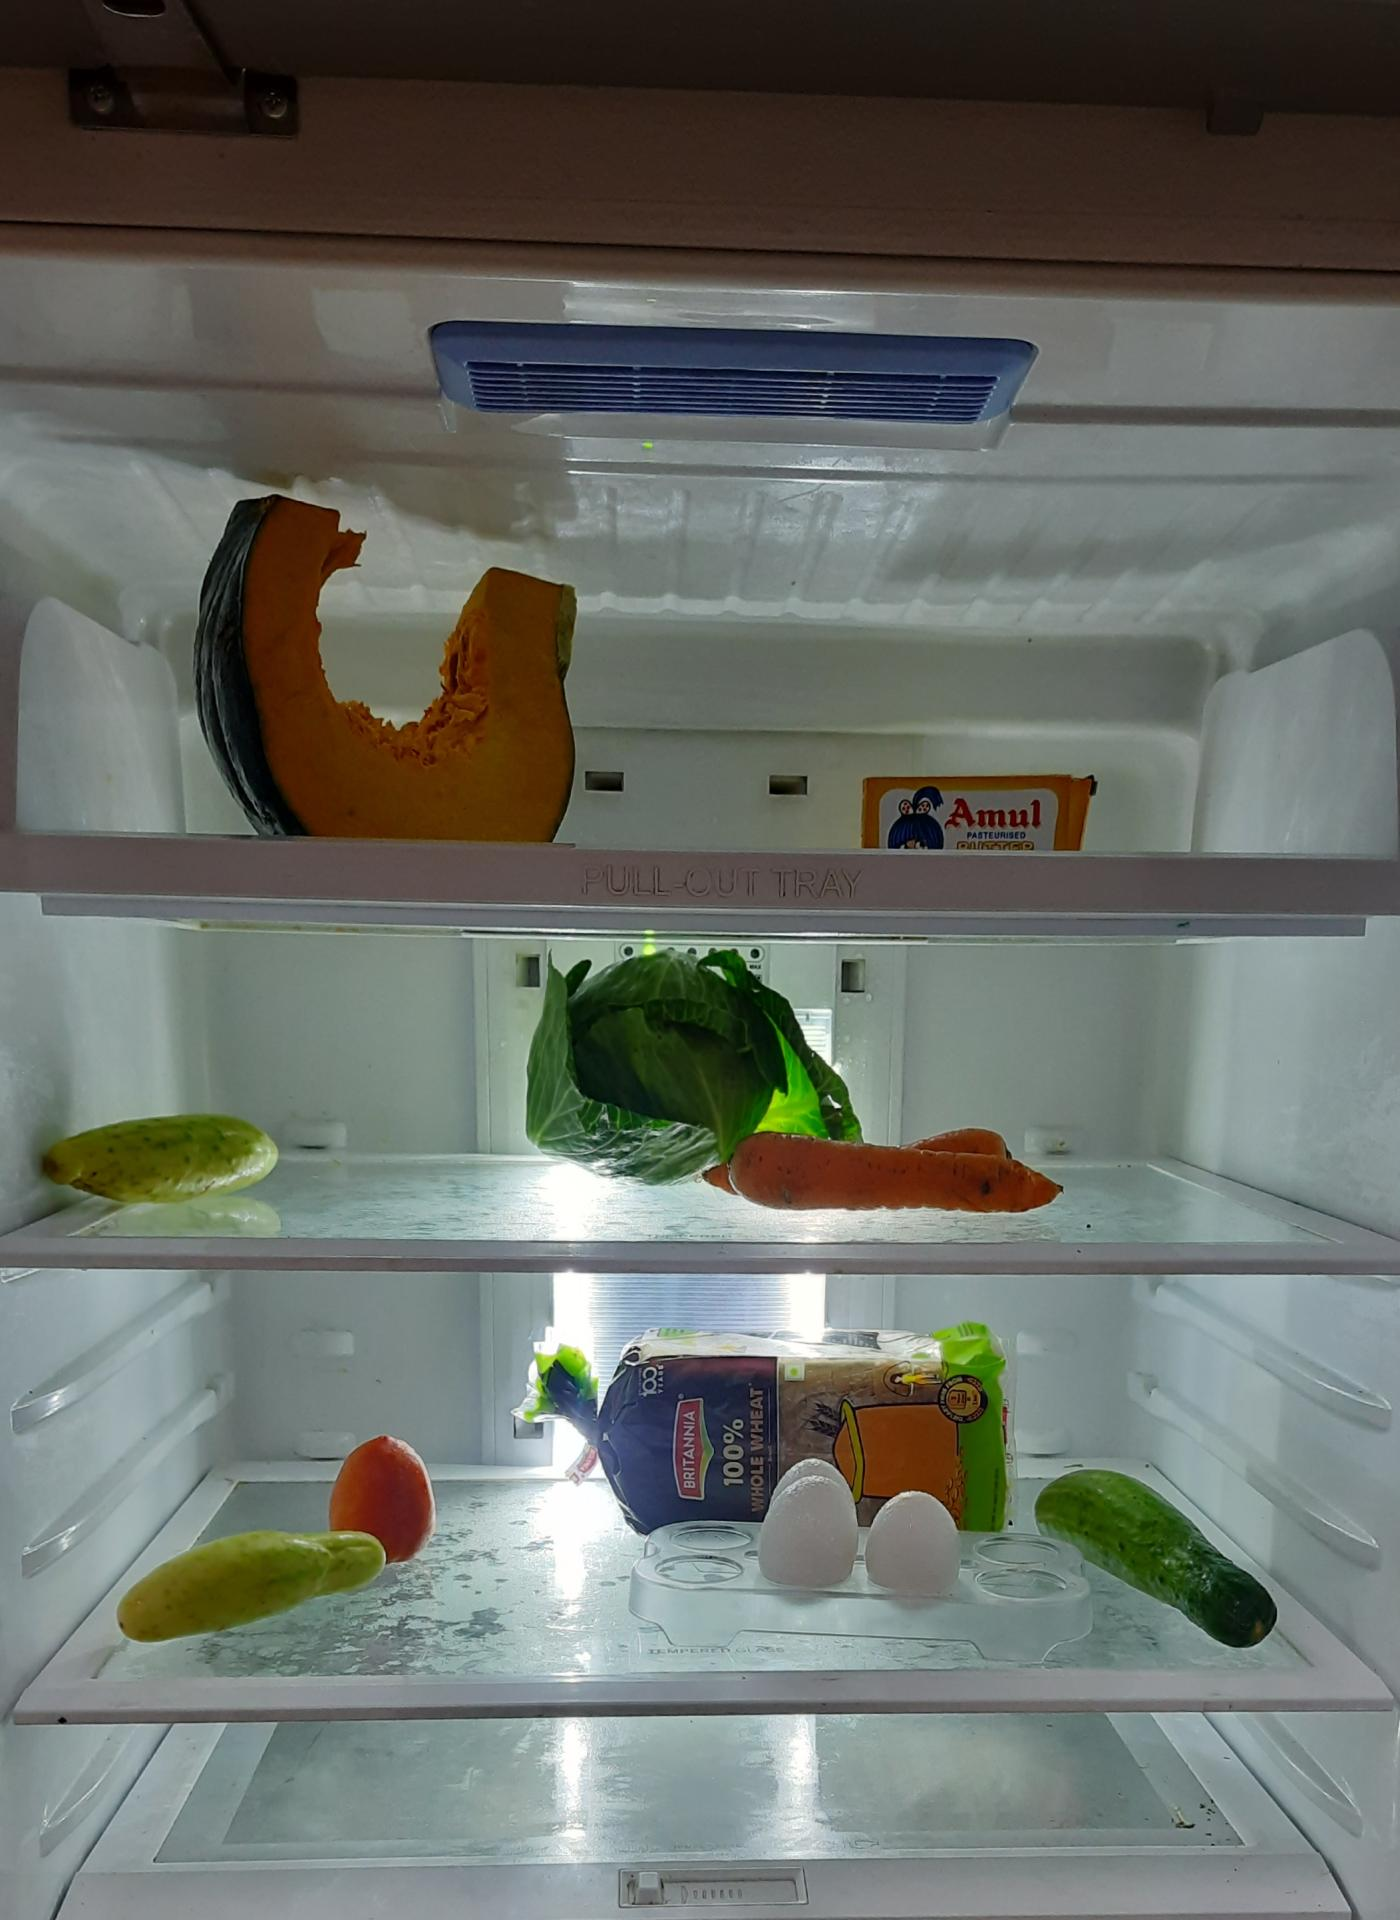bread: (549, 1334, 1015, 1537)
butter: (859, 771, 1096, 863)
cabbage: (529, 953, 845, 1179)
carrots: (702, 1121, 1060, 1206)
cucumber: (1030, 1471, 1290, 1655), (103, 1529, 403, 1647), (36, 1109, 282, 1203)
egg: (753, 1486, 966, 1613)
pumpkin: (191, 477, 592, 841)
tomato: (325, 1431, 437, 1565)
